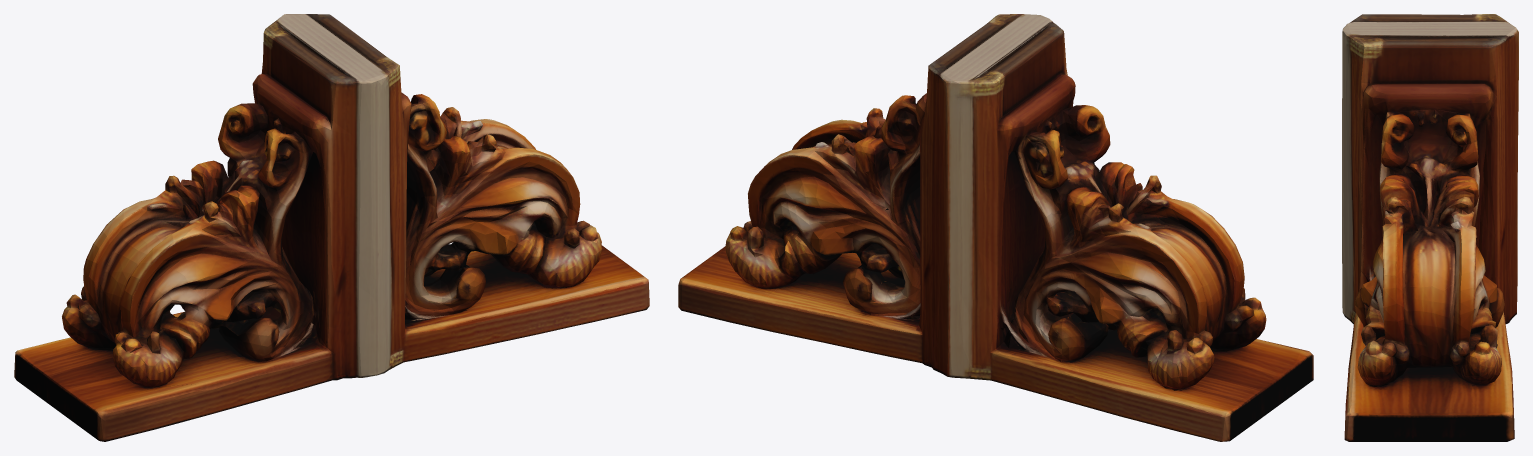
Rendered from wooden-bookends-vintage.jpeg.glb.
3 renders of one model, left to right at view 1: azimuth 30°, elevation 25°; view 2: azimuth 150°, elevation 25°; view 3: azimuth 270°, elevation 25°, orthographic. The views are drawn at different scales.
Parts seen in each view (by area): view 1: world; view 2: world; view 3: world.
Part boxes in pixels (left/top/right/bottom): world: left=14, top=14, right=649, bottom=441; world: left=678, top=14, right=1313, bottom=441; world: left=1342, top=14, right=1518, bottom=441.
Size of the model in its own units: 1 by 0.5173 by 0.2906.
Materials: 1 (1 with a texture image).
